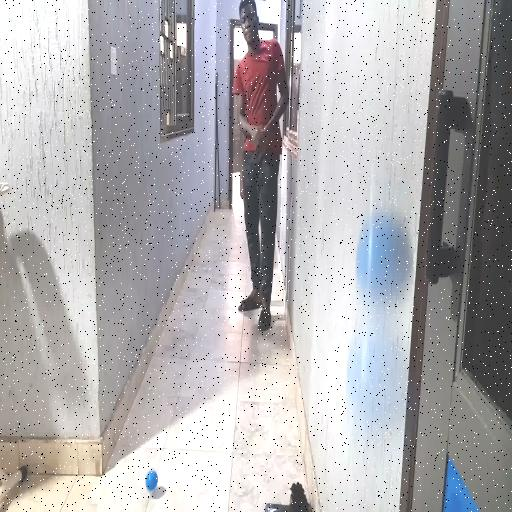plastic-ball: (344, 216, 414, 430)
